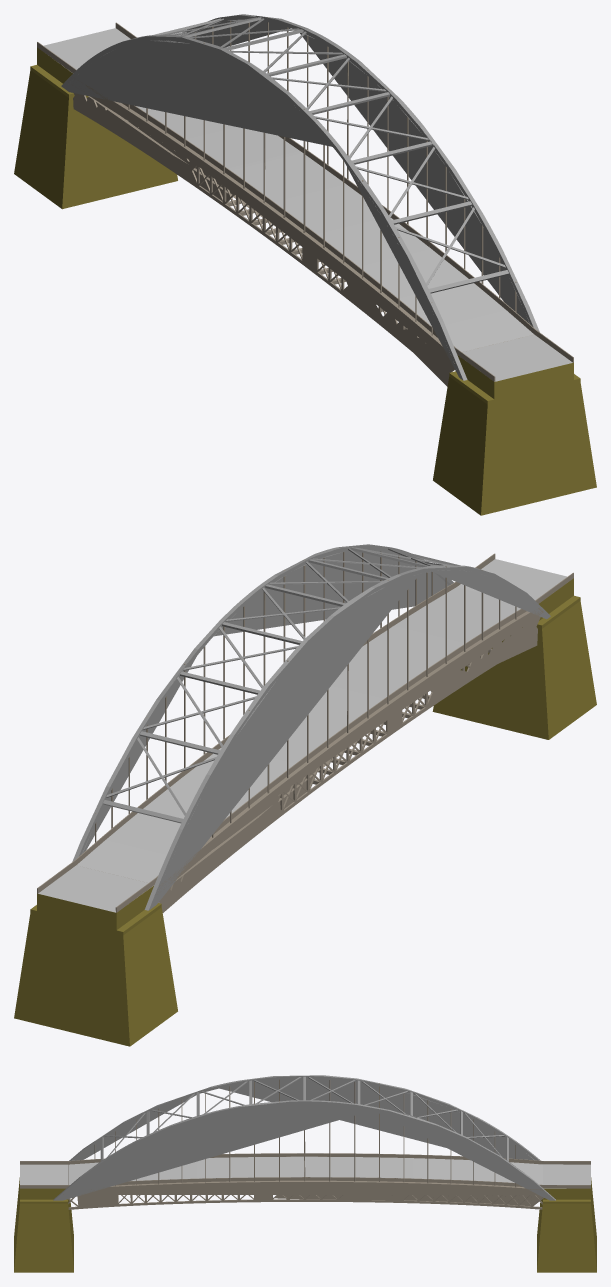
Rendered from Puente 1.fbx.
3 views of the same model, one above another, from view 1: azimuth 30°, elevation 25°; view 2: azimuth 150°, elevation 25°; view 3: azimuth 270°, elevation 25° (orthographic). The views are drawn at different scales.
Visible parts, largest first — view 1: base_suppo; view 2: base_suppo; view 3: base_suppo.
Boxes of the visible parts, <box> form: base_suppo: <box>14,14,596,515</box>; base_suppo: <box>14,544,596,1046</box>; base_suppo: <box>14,1075,596,1272</box>.
Size of the model in its own units: 34.76 by 76.54 by 242.
